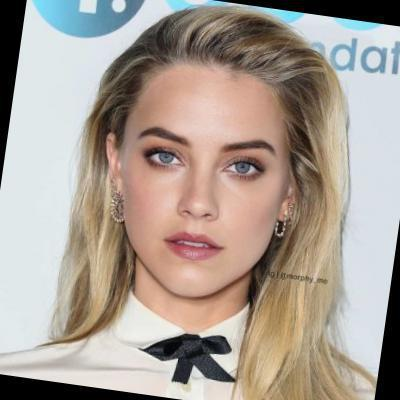Sober: (125, 69, 271, 288)
